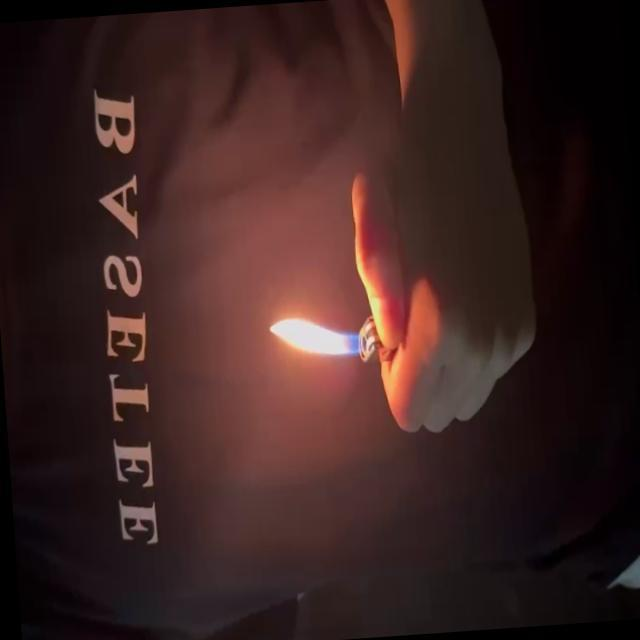Fire: (266, 312, 367, 369)
